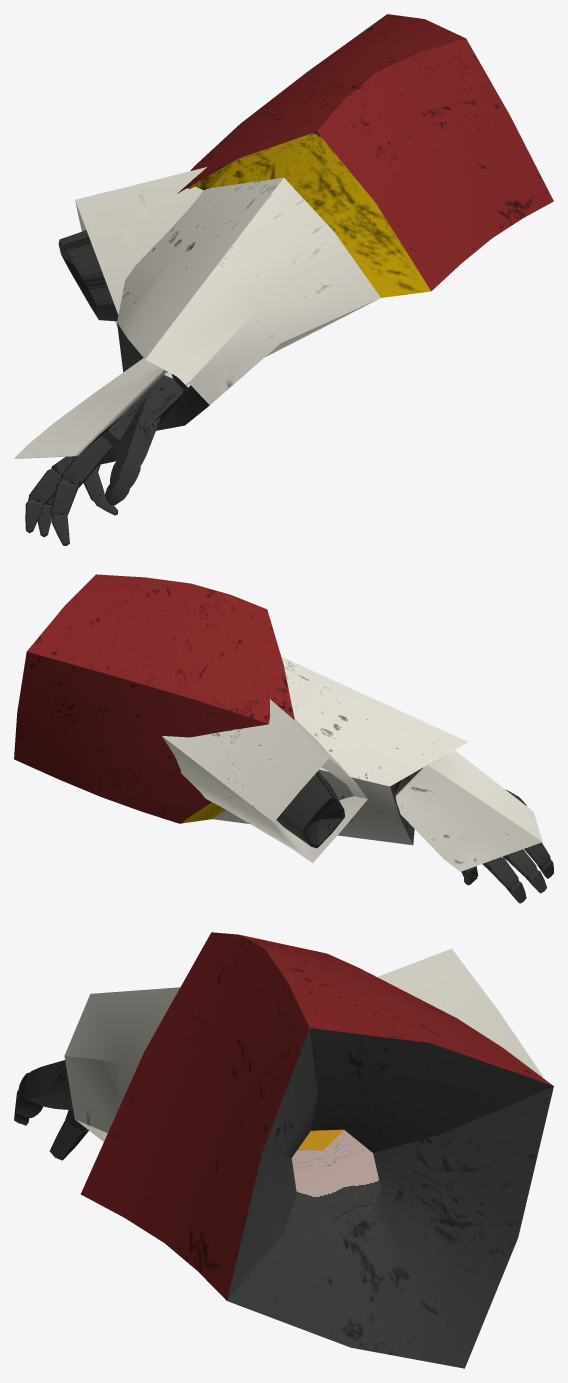
Rendered from Mech_1_Rarm.fbx.
3 views of the same model, one above another, from view 1: azimuth 30°, elevation 25°; view 2: azimuth 150°, elevation 25°; view 3: azimuth 270°, elevation 25° (orthographic). The views are drawn at different scales.
Parts seen in each view (by area): view 1: r.arm; view 2: r.arm; view 3: r.arm.
Part boxes in pixels (x1,y1,x2,y2): r.arm: (14, 14, 553, 545); r.arm: (14, 574, 553, 903); r.arm: (14, 932, 553, 1368).
Bounding box in the file's own units: 1.07 × 0.6175 × 0.5989.
